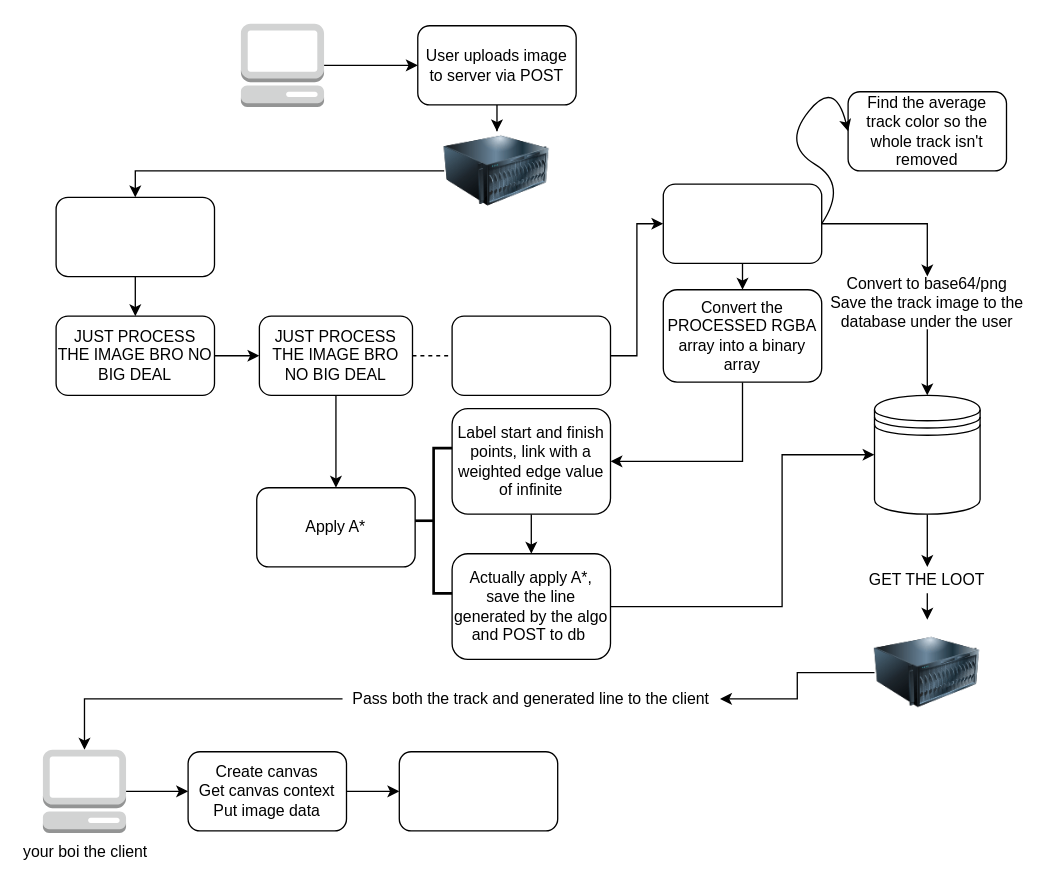
The diagram is 1056 pixels wide and 883 high, and some of its shapes have lost their labels. The centre of each missing label's shape, as x and y in pixels:
Convert the image from base64 to uint8ClampedArray (RGBA): [134,236]
Draw the rest of the owl: [478,790]
Find the majority (track) color and remove anything that is not that color: [742,223]
Remove corner numberes, corner names, pit buildings, pit road, etc: [530,355]
very cool database: [926,454]
